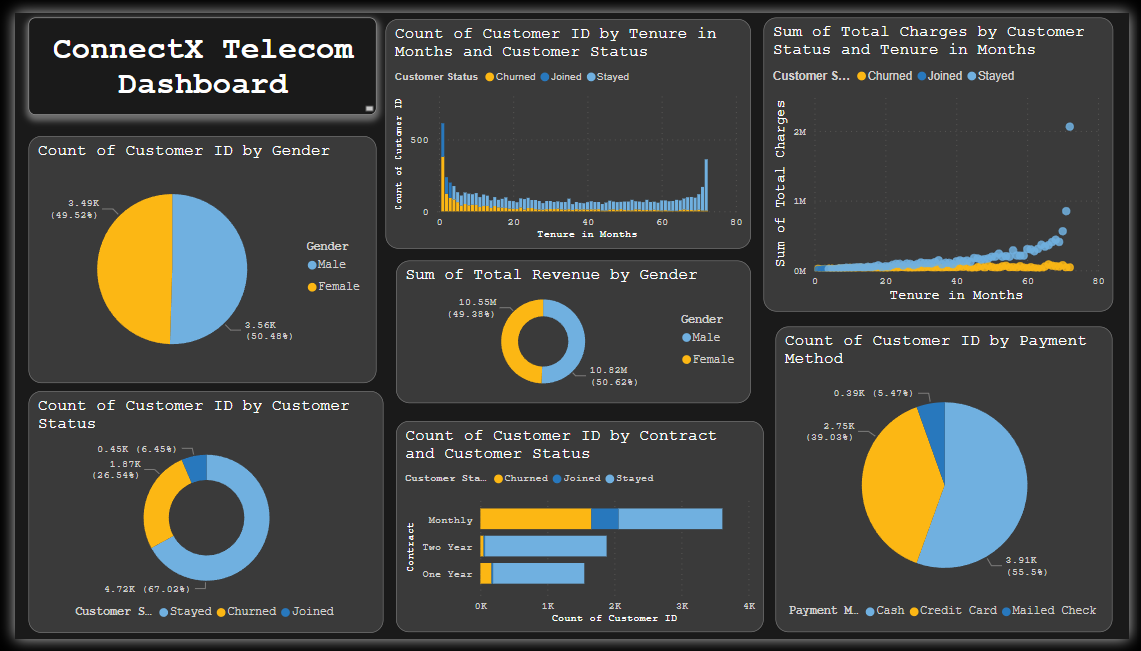

This screenshot's page, from the dashboard's own definition file:
{"tool":"powerbi","page":{"name":"Page 1","canvas":[1280,720],"ordinal":0},"visuals":[{"type":"pieChart","fields":{"Y":["CountNonNull(Details.Customer ID)"],"Category":["Details.Gender"]},"box":[16,142,400,284],"z":0},{"type":"donutChart","fields":{"Y":["CountNonNull(Details.Customer ID)"],"Category":["Details.Customer Status"]},"box":[16,434,408,278],"z":1000},{"type":"columnChart","fields":{"Category":["Details.Tenure in Months"],"Y":["CountNonNull(Details.Customer ID)"],"Series":["Details.Customer Status"]},"box":[426.2,6.2,420,263.8],"z":2000},{"type":"barChart","fields":{"Category":["Details.Contract"],"Y":["CountNonNull(Details.Customer ID)"],"Series":["Details.Customer Status"]},"box":[437.5,468.8,422.5,242.5],"z":2001},{"type":"pieChart","fields":{"Y":["CountNonNull(Details.Customer ID)"],"Category":["Details.Payment Method"]},"box":[875,360,387.5,351.2],"z":2002},{"type":"scatterChart","fields":{"X":["Details.Tenure in Months"],"Y":["Sum(Details.Total Charges)"],"Series":["Details.Customer Status"]},"box":[860,6,402,338],"z":2003},{"type":"donutChart","fields":{"Category":["Details.Gender"],"Y":["Sum(Details.Total Revenue)"]},"box":[438,284,408,164],"z":2004},{"type":"textbox","title":"ConnectX Telecom Dashboard","box":[16,6,400,112],"z":2005}]}

Visuals, with their boxes in screenshot pixels (x1, y1, x2, y2), scaled from the page's 1280x720 canvas onto the 1141x651 screenshot:
pieChart - CountNonNull(Details.Customer ID) x Details.Gender: bbox=(14, 128, 371, 385)
donutChart - CountNonNull(Details.Customer ID) x Details.Customer Status: bbox=(14, 392, 378, 644)
columnChart - Details.Tenure in Months x CountNonNull(Details.Customer ID): bbox=(380, 6, 754, 244)
barChart - Details.Contract x CountNonNull(Details.Customer ID): bbox=(390, 424, 767, 643)
pieChart - CountNonNull(Details.Customer ID) x Details.Payment Method: bbox=(780, 326, 1125, 643)
scatterChart - Details.Tenure in Months x Sum(Details.Total Charges): bbox=(767, 5, 1125, 311)
donutChart - Details.Gender x Sum(Details.Total Revenue): bbox=(390, 257, 754, 405)
"ConnectX Telecom Dashboard" textbox: bbox=(14, 5, 371, 107)
